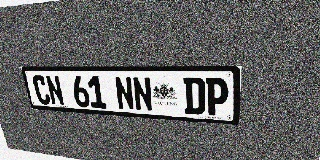1: (86, 76, 107, 109)
6: (70, 76, 91, 108)
C: (31, 75, 51, 105)
D: (183, 77, 205, 115)
N: (132, 77, 153, 112), (114, 76, 135, 110), (45, 75, 65, 106)
P: (206, 78, 229, 117)
